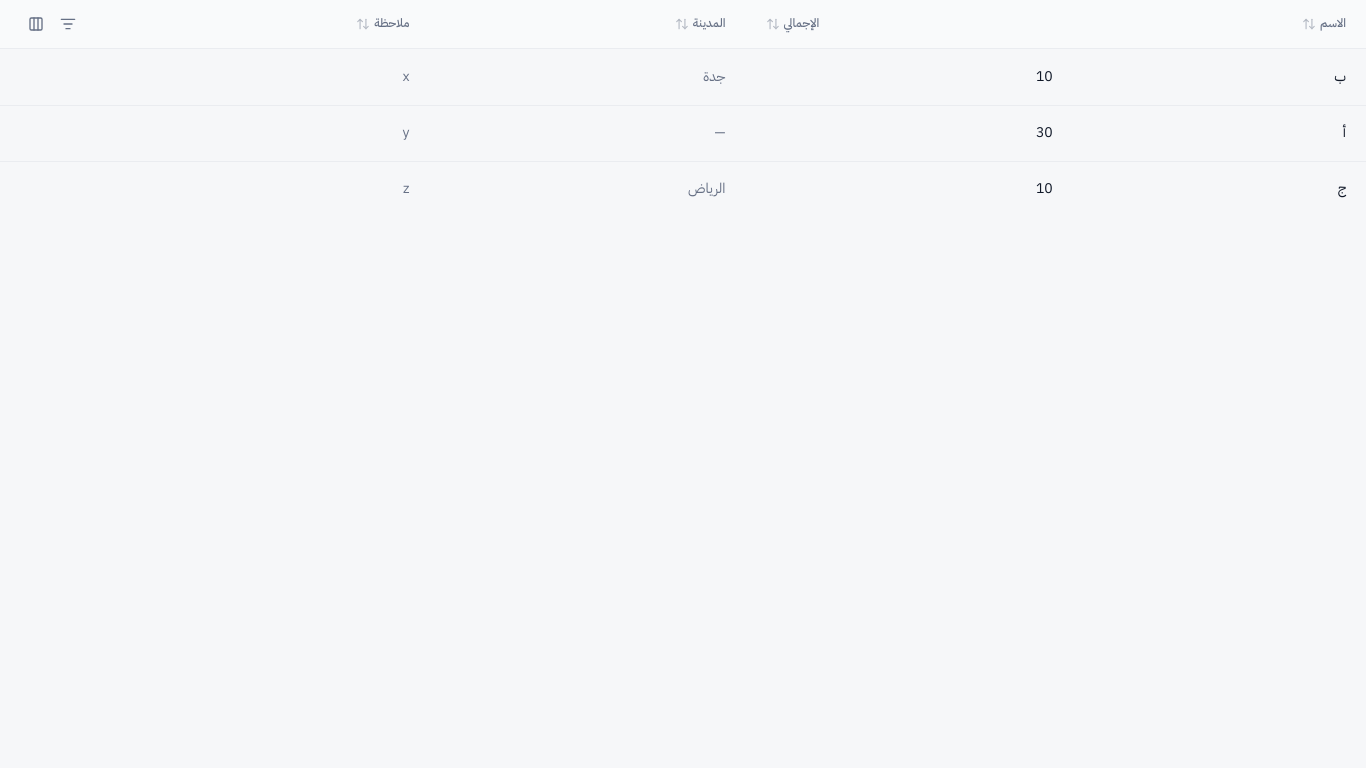
Test case: DataTable sort and columns › builds up to three sort levels from the sort panel
The width and height of the screenshot is (1366, 768).
Click the button named "ترتيب".
click(68, 24)  # box [52,8,84,40]
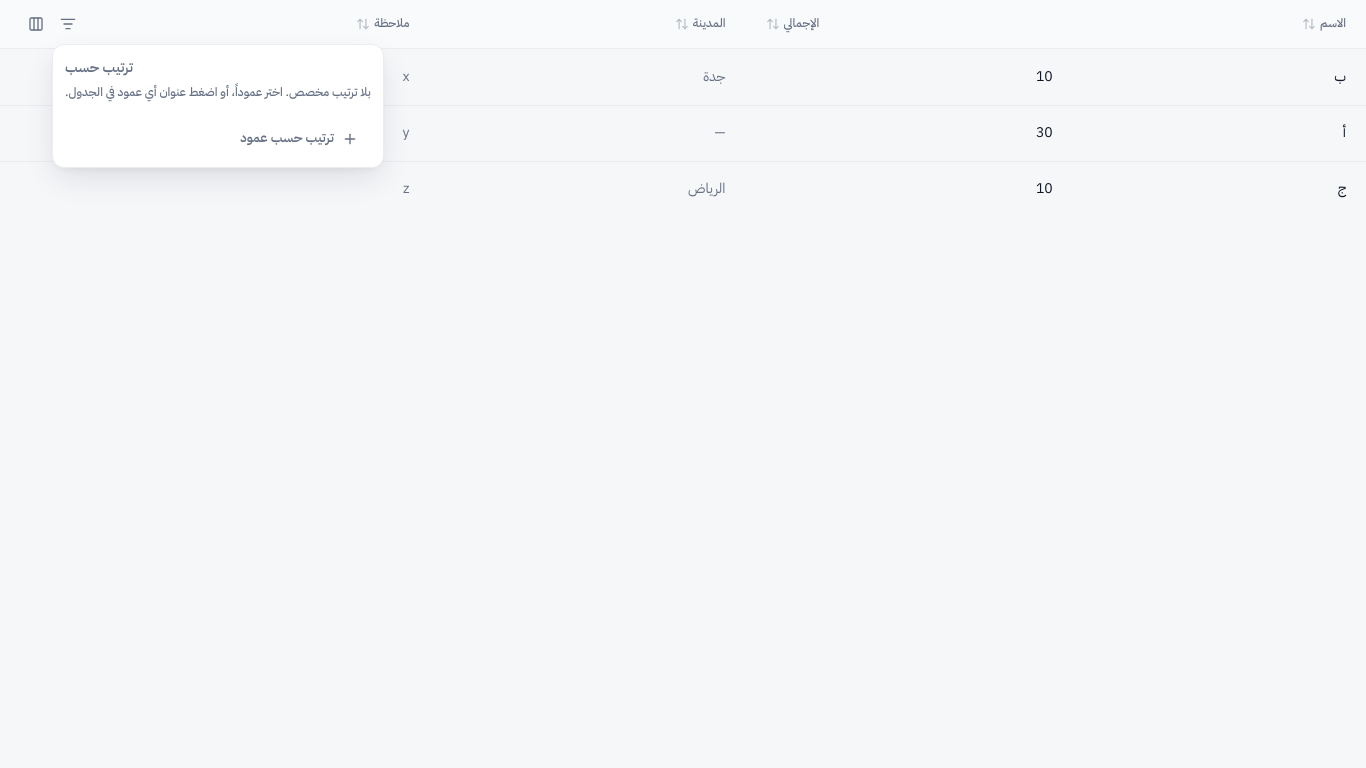
Click the button "ترتيب حسب عمود".
click(299, 139)  # box [227,123,371,155]
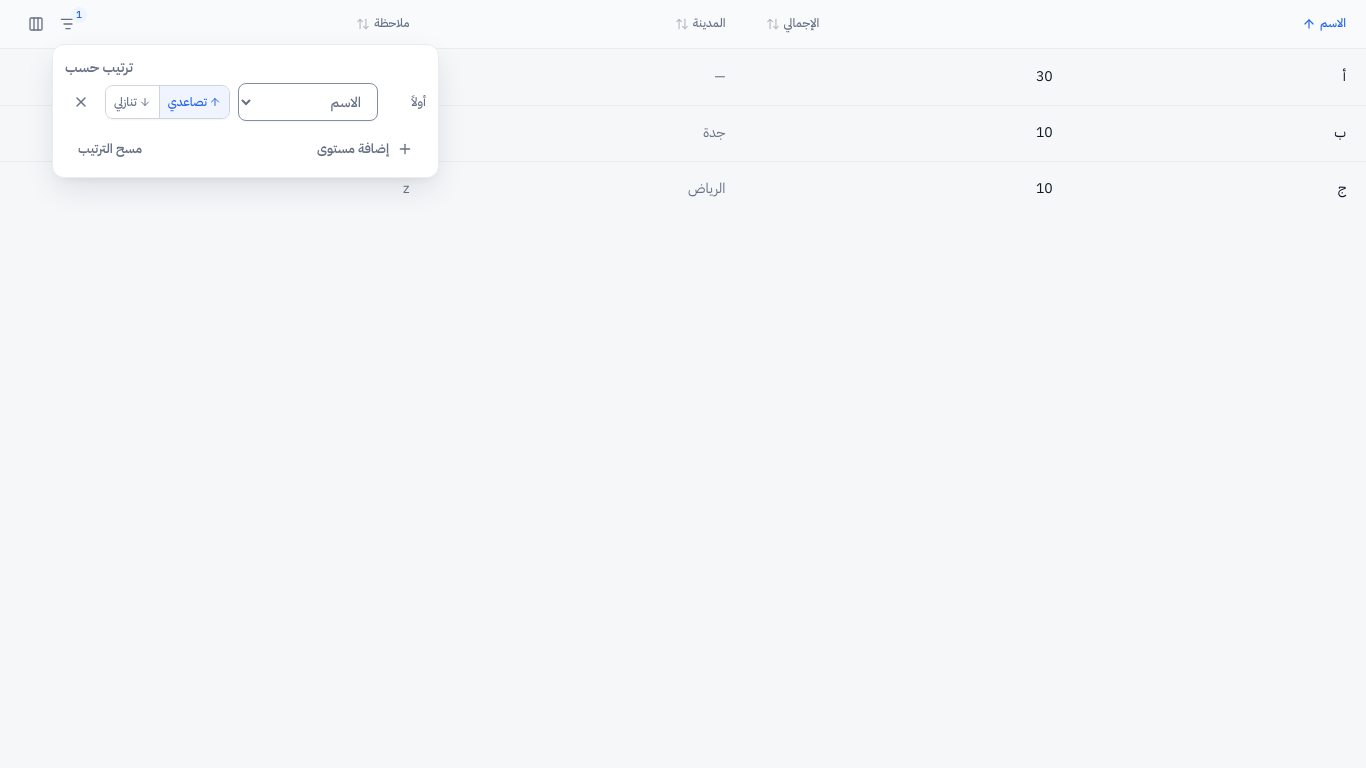
Click the button "إضافة مستوى".
click(365, 149)  # box [304,133,426,165]
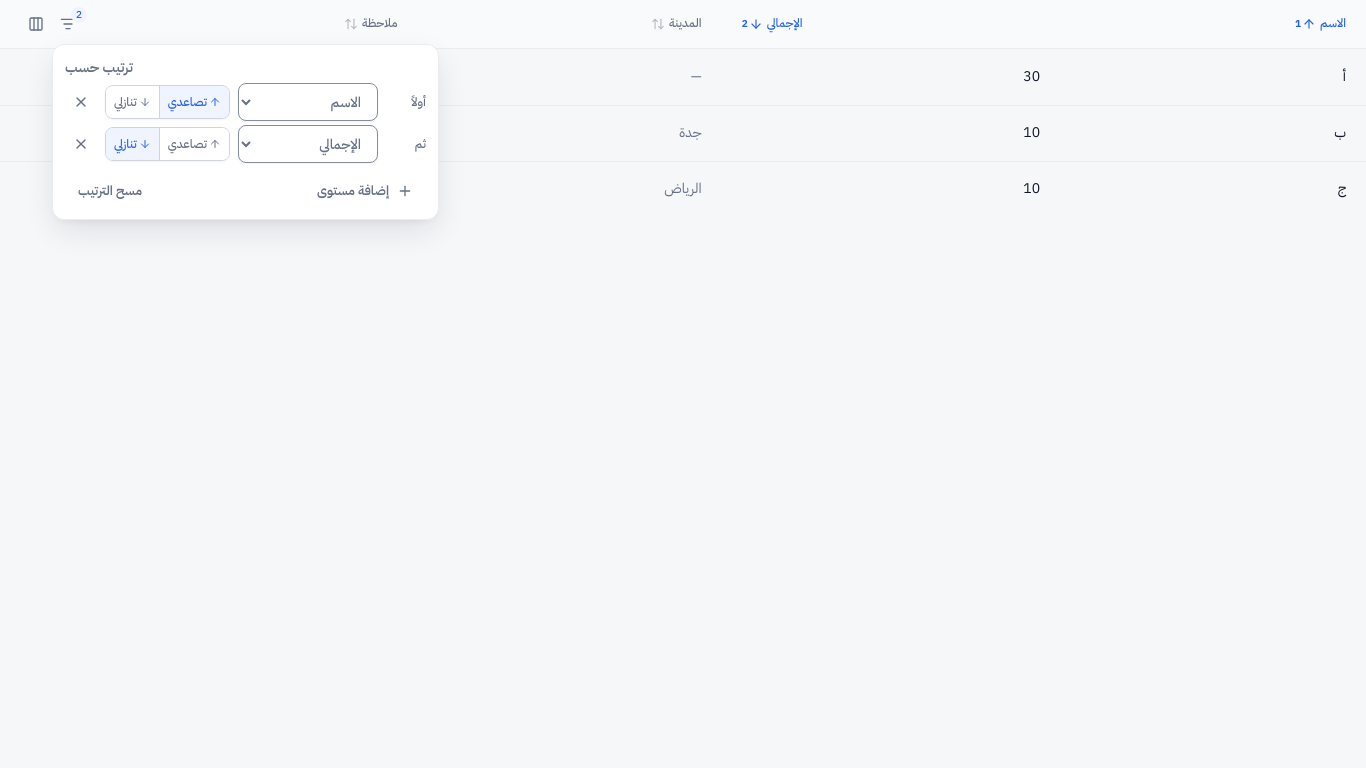
Click the button "إضافة مستوى".
click(365, 191)  # box [304,175,426,207]
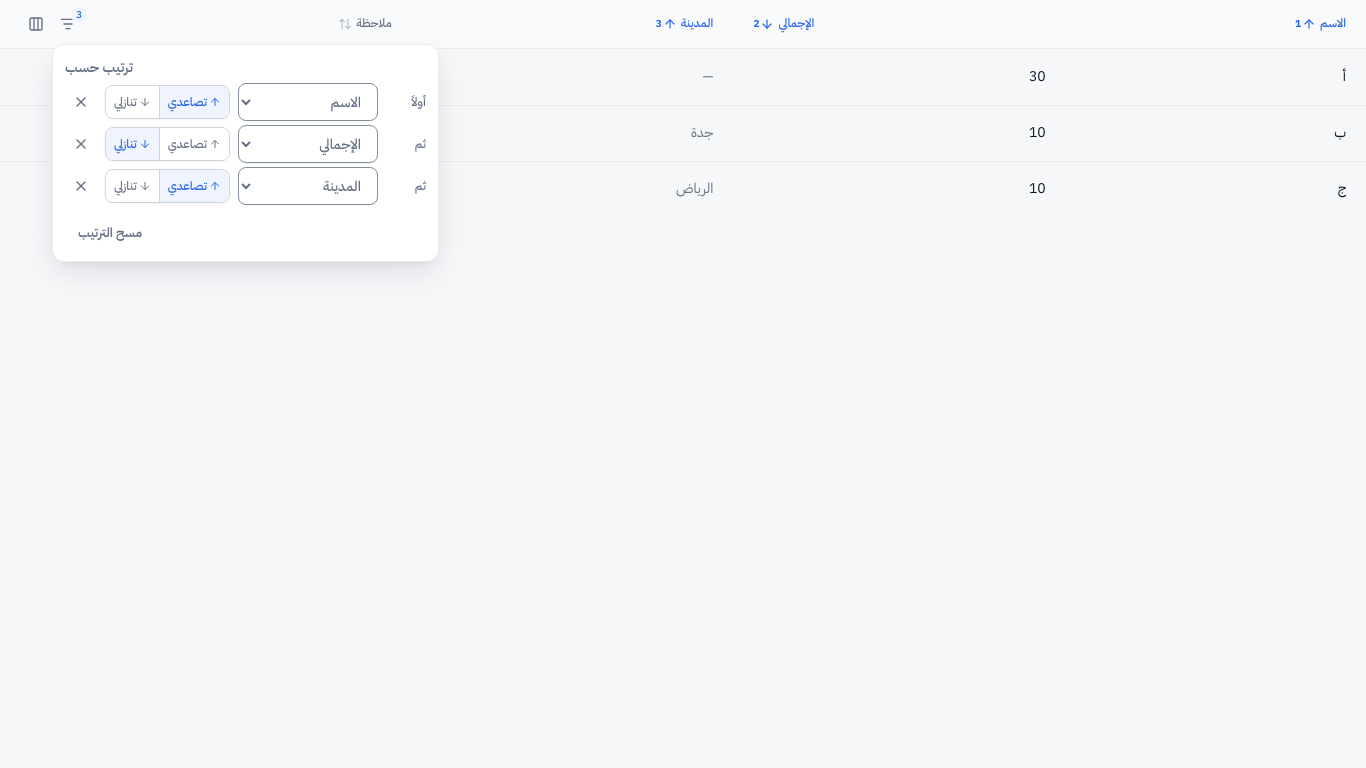
Expected: the number of dropdowns is 3, [238,83,378,121]; [238,125,378,163]; [238,167,378,205]
Expected: the button "إضافة مستوى" is gone
Click the button "مسح الترتيب".
click(110, 233)  # box [65,217,155,249]
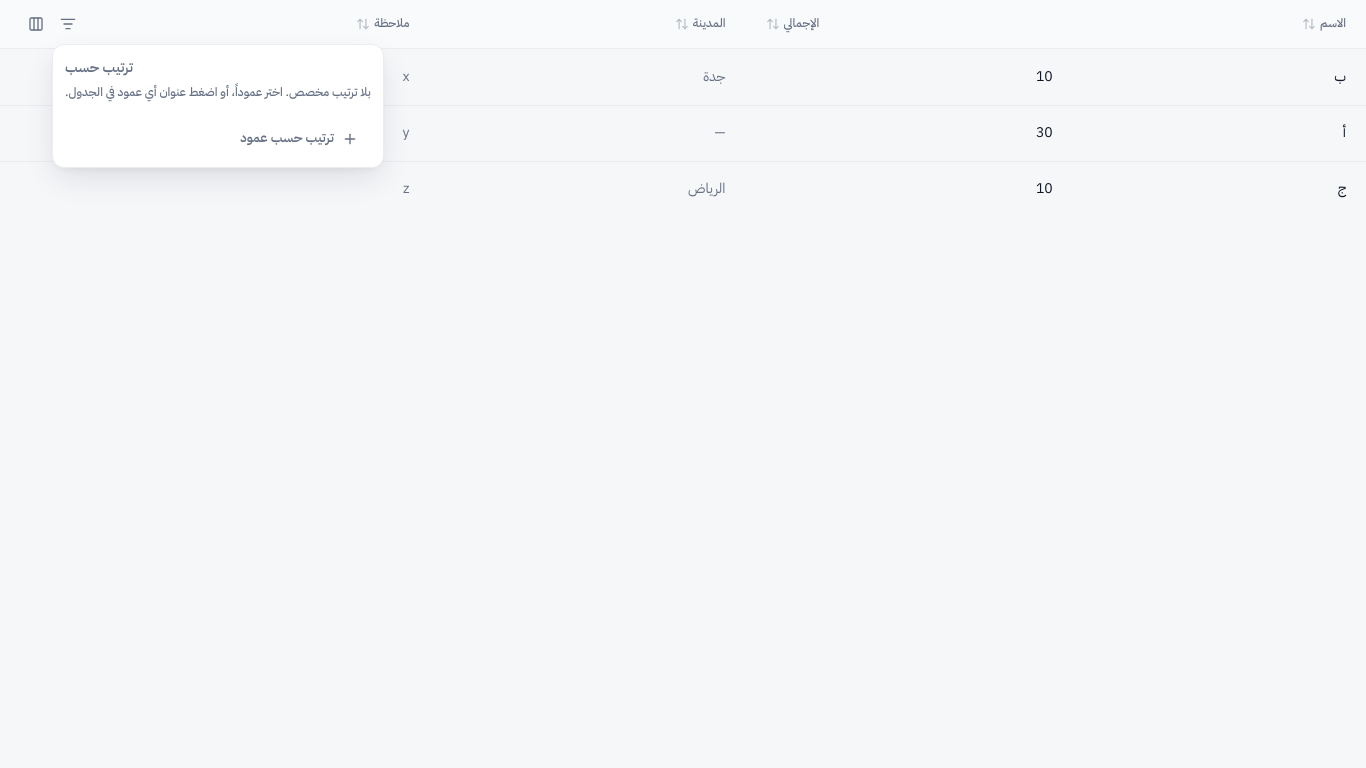
Expected: no dropdowns are shown
